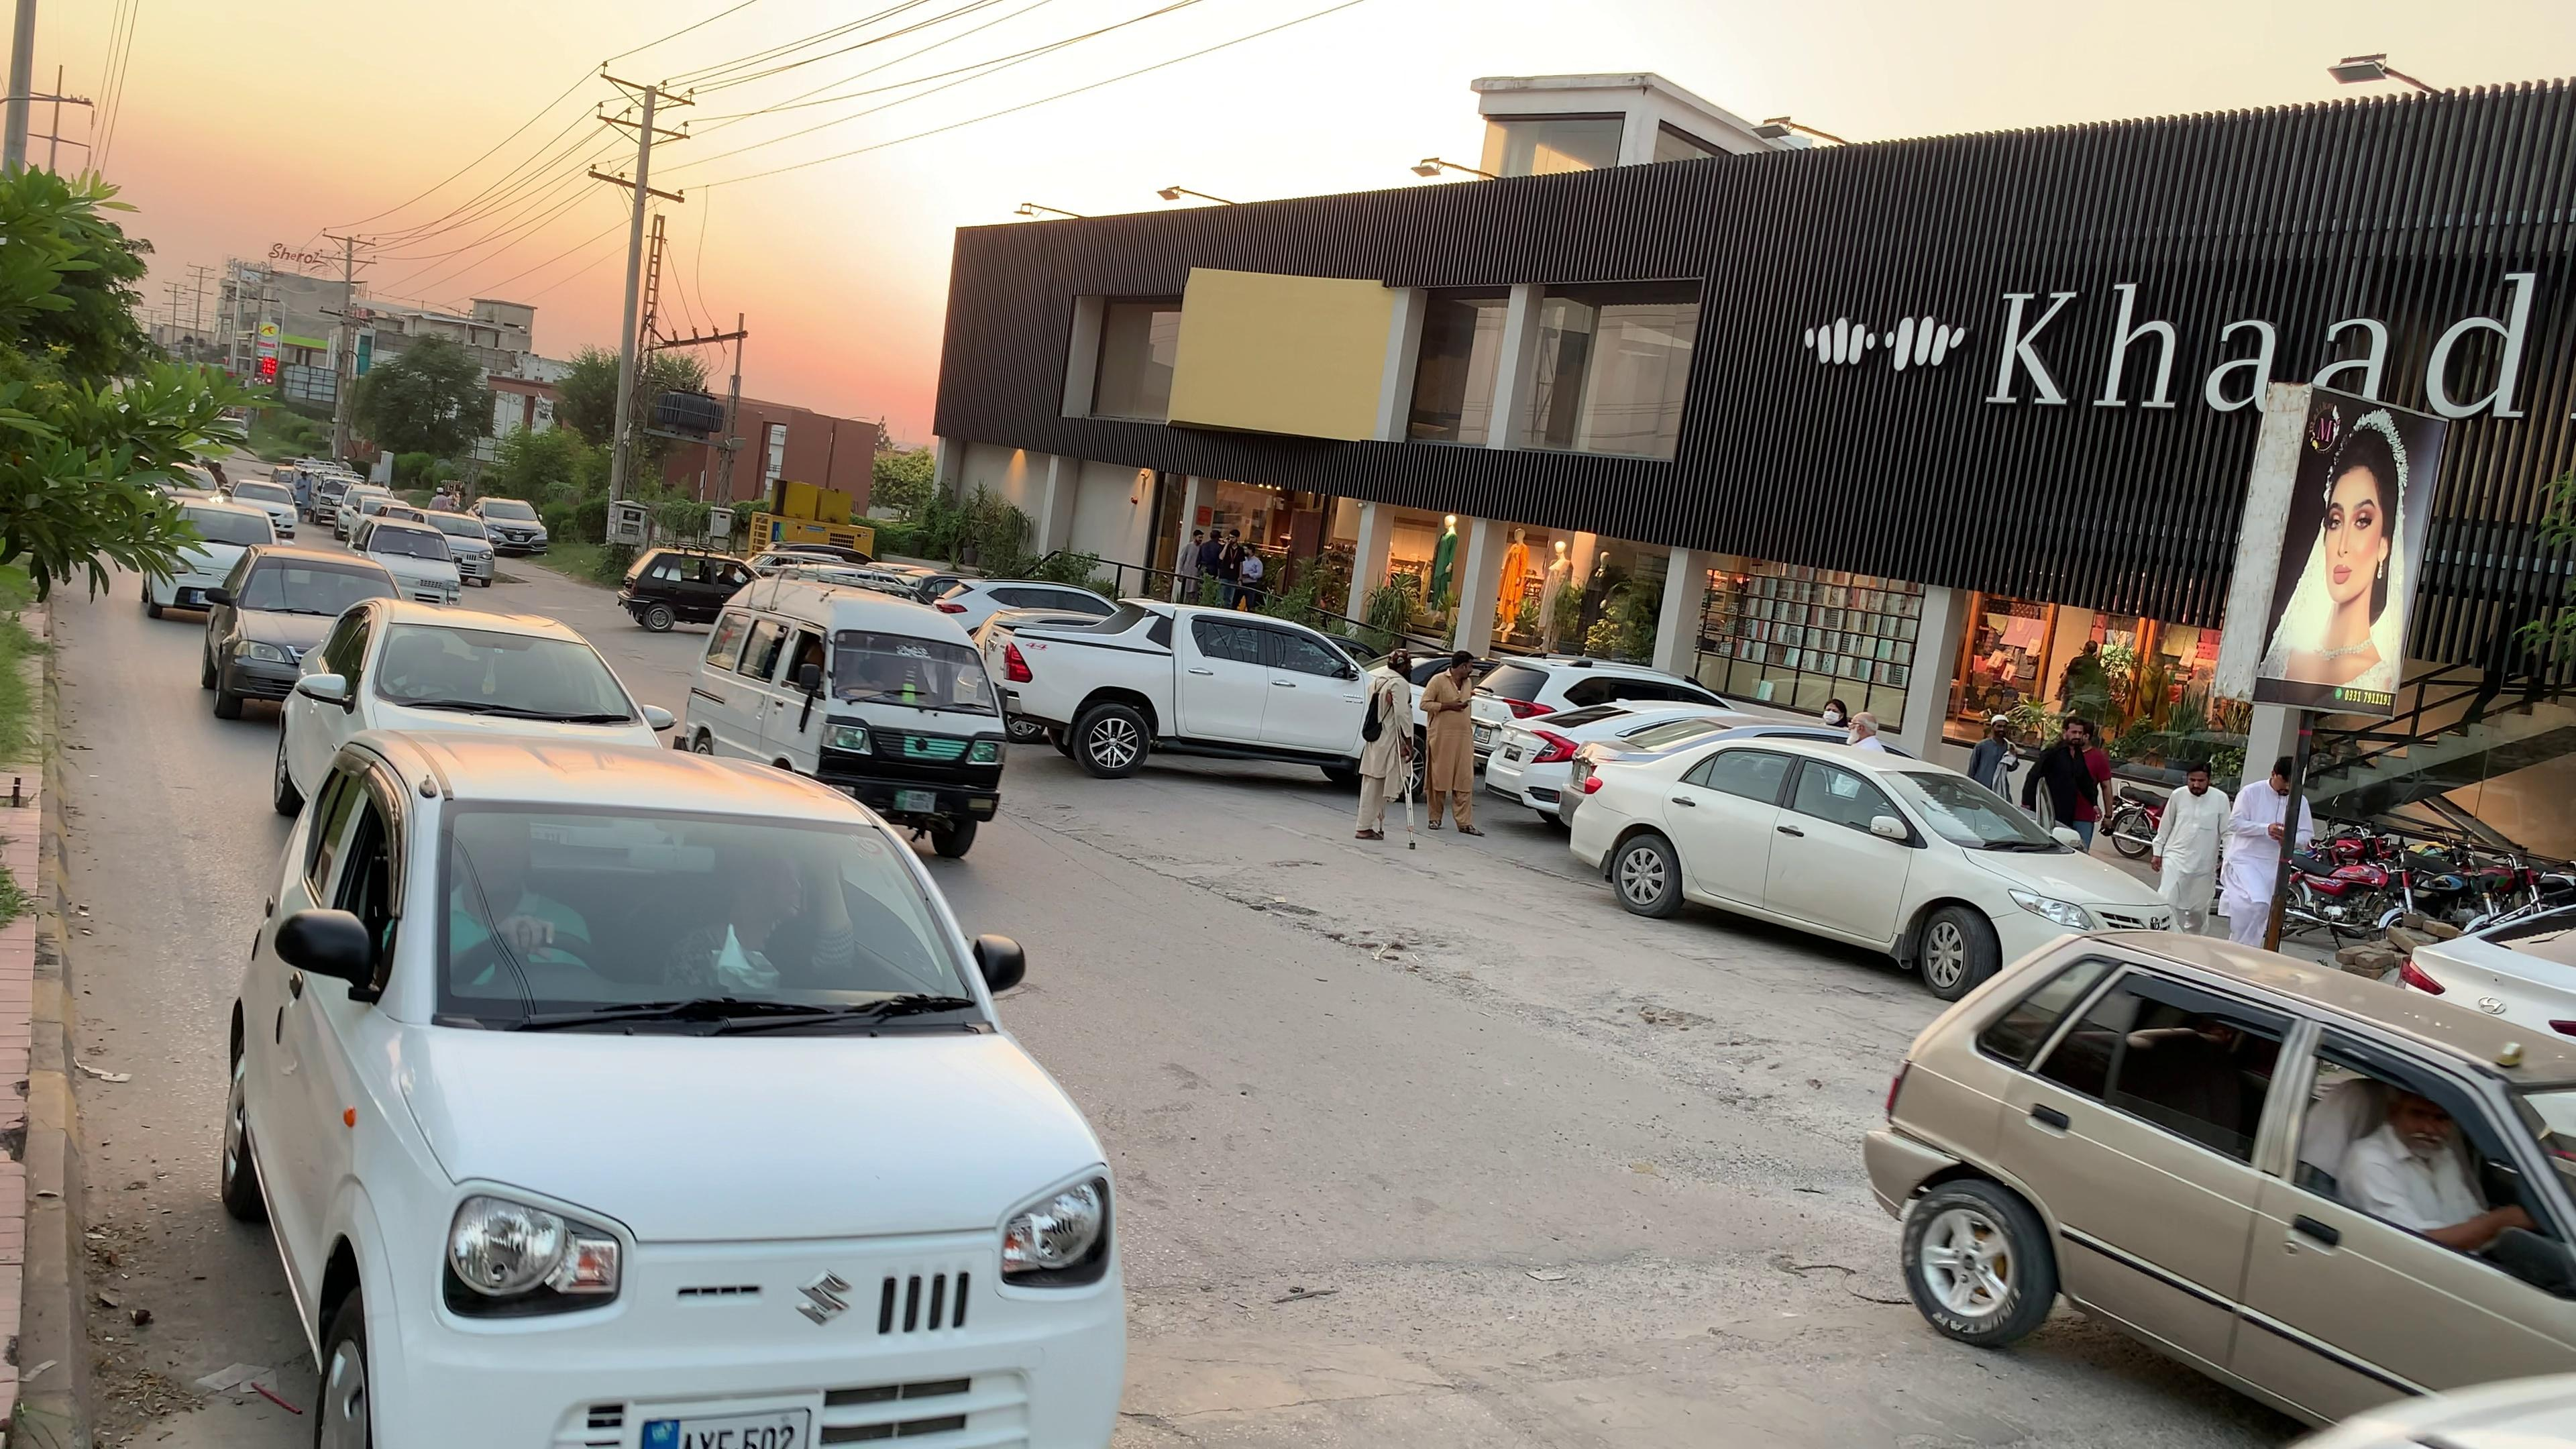windshield: (426, 771, 1000, 1053), (830, 607, 1003, 715)
